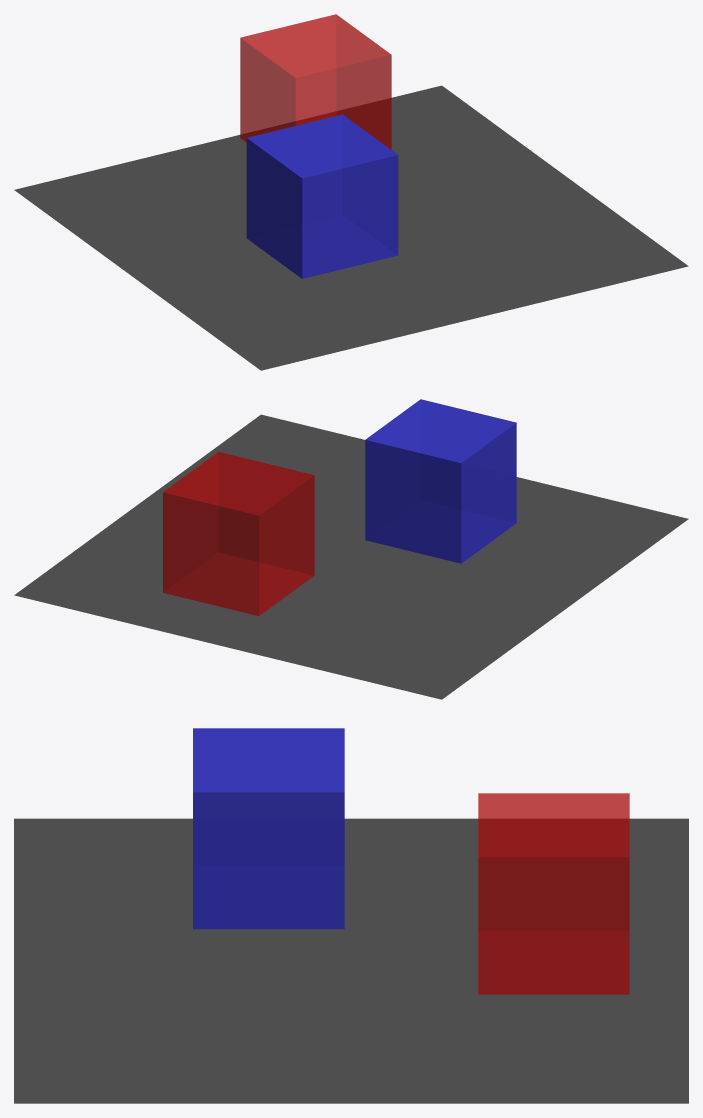
3 views of the same model, one above another, from view 1: azimuth 30°, elevation 25°; view 2: azimuth 150°, elevation 25°; view 3: azimuth 270°, elevation 25° (orthographic). The views are drawn at different scales.
Visible parts, largest first — view 1: Plane, Cube.001, Cube; view 2: Plane, Cube, Cube.001; view 3: Plane, Cube, Cube.001.
Boxes of the visible parts, box(x1,y1,x2,y2) form: Plane: box(14, 85, 688, 370); Cube.001: box(246, 114, 398, 278); Cube: box(240, 14, 391, 149); Plane: box(14, 414, 688, 699); Cube: box(163, 452, 314, 615); Cube.001: box(365, 399, 516, 563); Plane: box(14, 818, 688, 1103); Cube: box(478, 793, 629, 994); Cube.001: box(193, 728, 344, 929).
Bounding box in the file's own units: 8.91 × 2.35 × 8.91.
